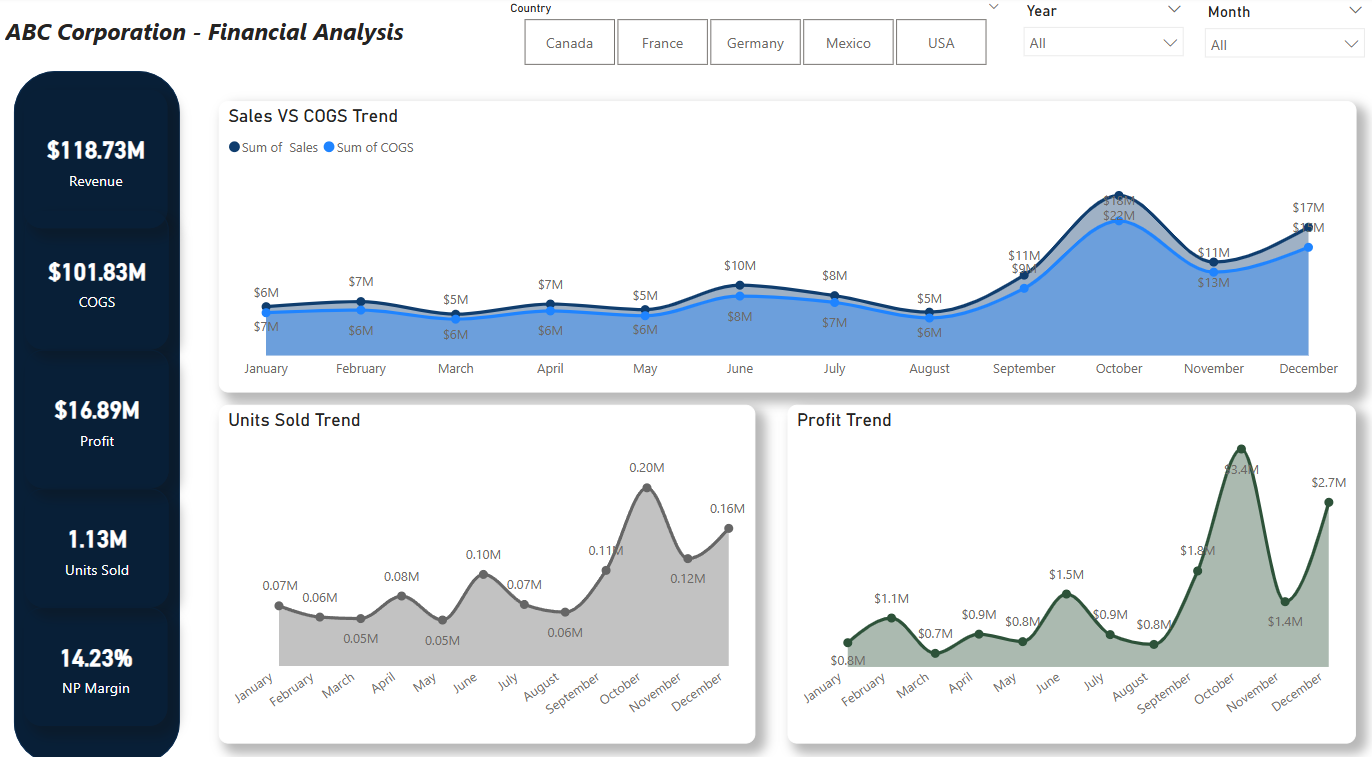

The dashboard page shown, as its layout file describes it:
{"tool":"powerbi","page":{"name":"Trend Analysis","canvas":[1280,720],"ordinal":1},"visuals":[{"type":"shape","box":[12.8,69.8,154.7,644.2],"z":0},{"type":"card","fields":{"Values":["Sum(financials. Sales)"]},"box":[22.1,87.2,133.7,129.1],"z":1000},{"type":"card","fields":{"Values":["Sum(financials.COGS)"]},"box":[23.3,200,133.7,129.1],"z":2000},{"type":"card","fields":{"Values":["Sum(financials.Profit)"]},"box":[23.3,329.1,133.7,129.1],"z":3000},{"type":"card","fields":{"Values":["Sum(financials.Units Sold)"]},"box":[23.3,458.1,133.7,110.5],"z":4000},{"type":"slicer","fields":{"Values":["financials.Country"]},"box":[461.6,0,480.2,70.9],"z":9000},{"type":"slicer","fields":{"Values":["financials.Date.Variation.Date Hierarchy.Month"]},"box":[1110.8,1.4,169.5,69.5],"z":10000},{"type":"slicer","fields":{"Values":["financials.Date.Variation.Date Hierarchy.Year"]},"box":[941.4,0,169.5,69.5],"z":11000},{"type":"card","fields":{"Values":["financials.NP Margin"]},"box":[22.1,568.6,133.7,110.5],"z":14000},{"type":"textbox","box":[0,12.8,448.8,47.7],"z":15000},{"type":"areaChart","title":"Sales VS COGS Trend","fields":{"Category":["financials.Date.Variation.Date Hierarchy.Month"],"Y":["Sum(financials. Sales)","Sum(financials.COGS)"]},"box":[203.5,97.7,1058.1,270.9],"z":15001},{"type":"areaChart","title":"Units Sold Trend","fields":{"Category":["financials.Date.Variation.Date Hierarchy.Month"],"Y":["Sum(financials.Units Sold)"]},"box":[203.5,380.2,498.8,315.1],"z":15002},{"type":"areaChart","title":"Profit Trend","fields":{"Category":["financials.Date.Variation.Date Hierarchy.Month"],"Y":["Sum(financials.Profit)"]},"box":[732.6,380.2,529.1,315.1],"z":15006}]}

Visuals, with their boxes in screenshot pixels (x1, y1, x2, y2), scaled from the page's 1280x720 canvas onto the 1372x757 screenshot:
shape: x1=14, y1=73, x2=180, y2=751
card - Sum(financials. Sales): x1=24, y1=92, x2=167, y2=227
card - Sum(financials.COGS): x1=25, y1=210, x2=168, y2=346
card - Sum(financials.Profit): x1=25, y1=346, x2=168, y2=482
card - Sum(financials.Units Sold): x1=25, y1=482, x2=168, y2=598
slicer - financials.Country: x1=495, y1=0, x2=1009, y2=75
slicer - financials.Date.Variation.Date Hierarchy.Month: x1=1191, y1=1, x2=1371, y2=75
slicer - financials.Date.Variation.Date Hierarchy.Year: x1=1009, y1=0, x2=1191, y2=73
card - financials.NP Margin: x1=24, y1=598, x2=167, y2=714
textbox: x1=0, y1=13, x2=481, y2=64
"Sales VS COGS Trend" areaChart: x1=218, y1=103, x2=1352, y2=388
"Units Sold Trend" areaChart: x1=218, y1=400, x2=753, y2=731
"Profit Trend" areaChart: x1=785, y1=400, x2=1352, y2=731
